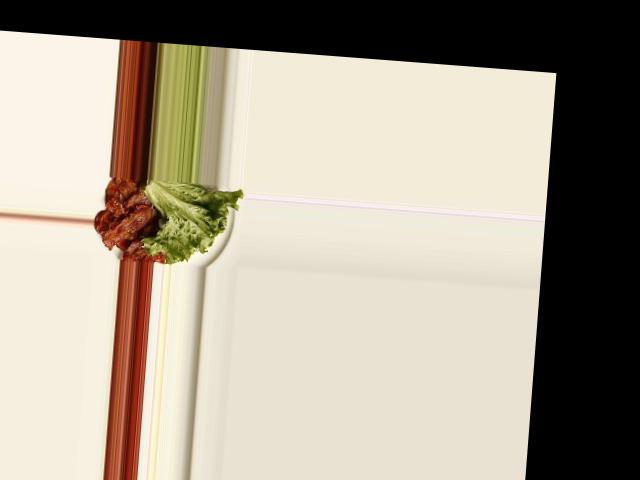lettuce: (140, 178, 239, 266)
